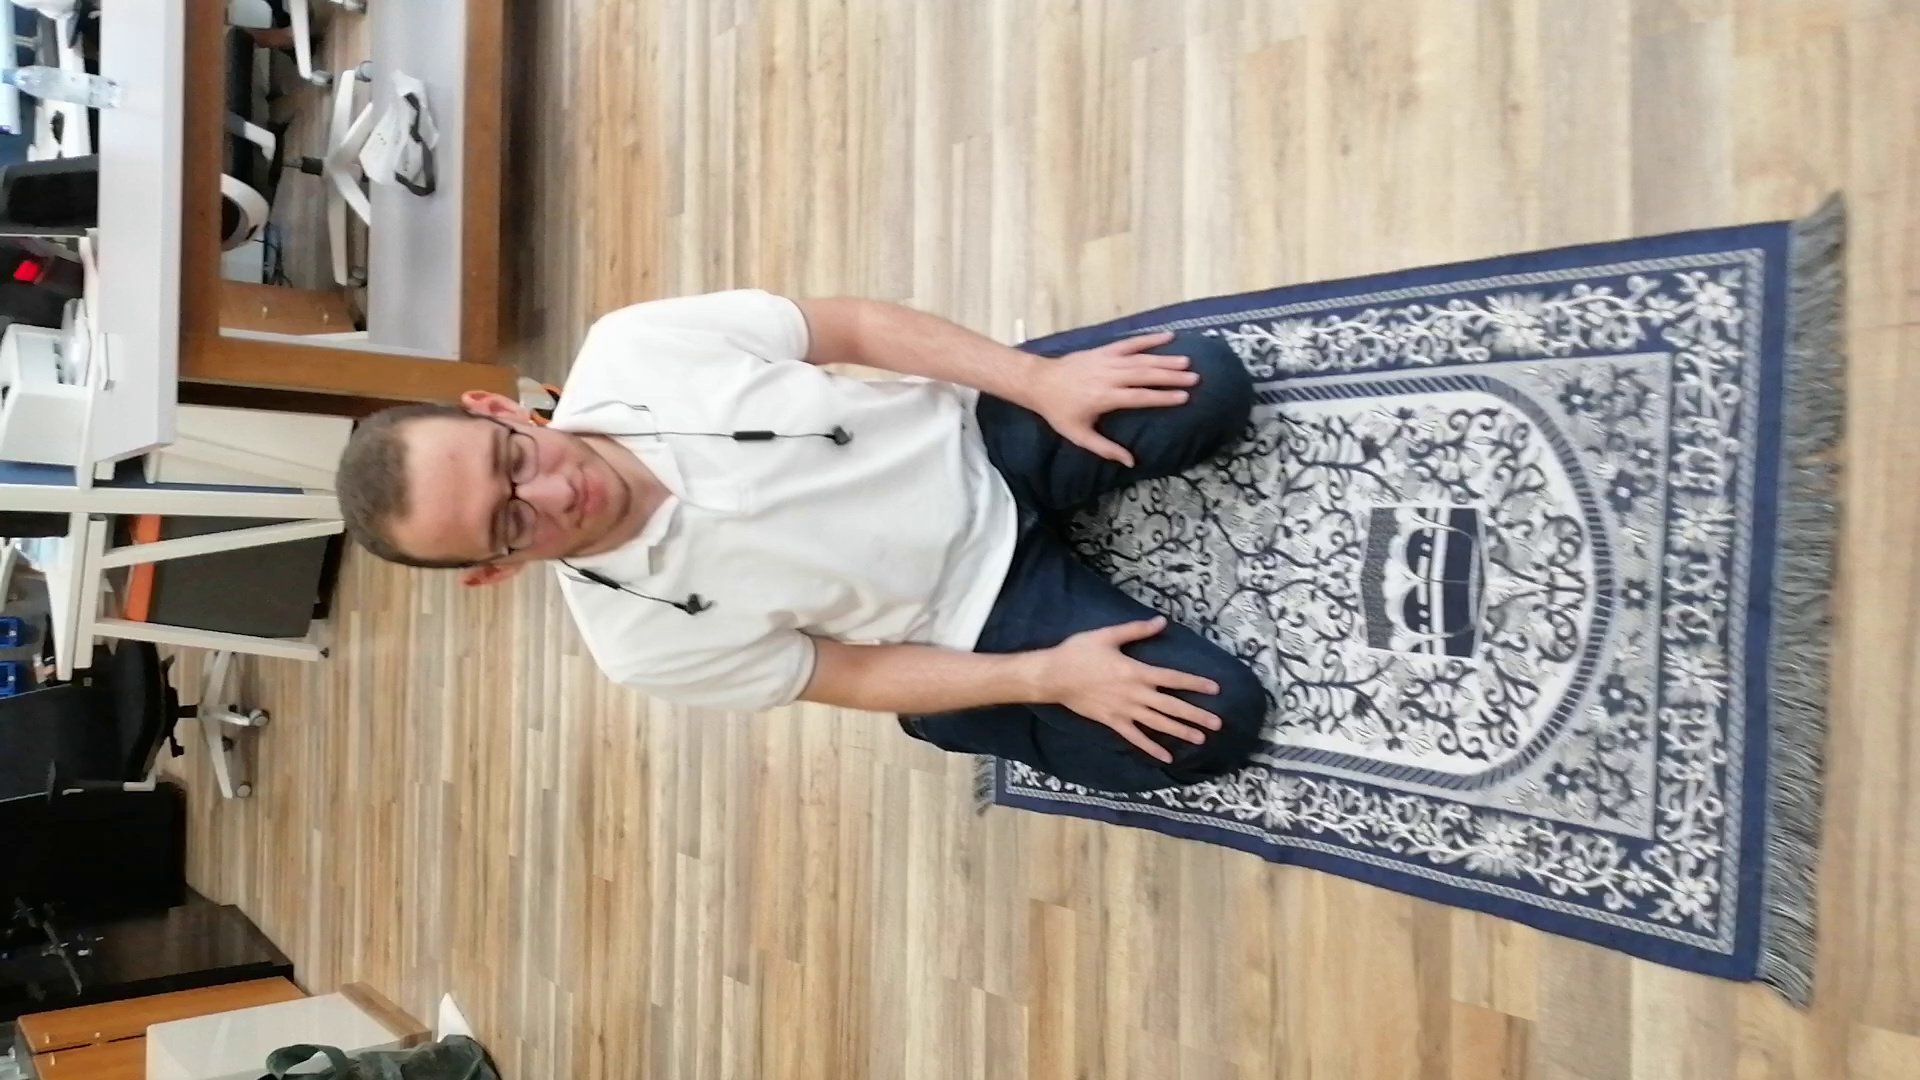sitting: (323, 280, 1288, 804)
